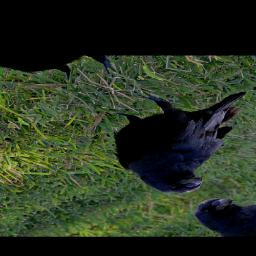Crow: (59, 66, 256, 201)
